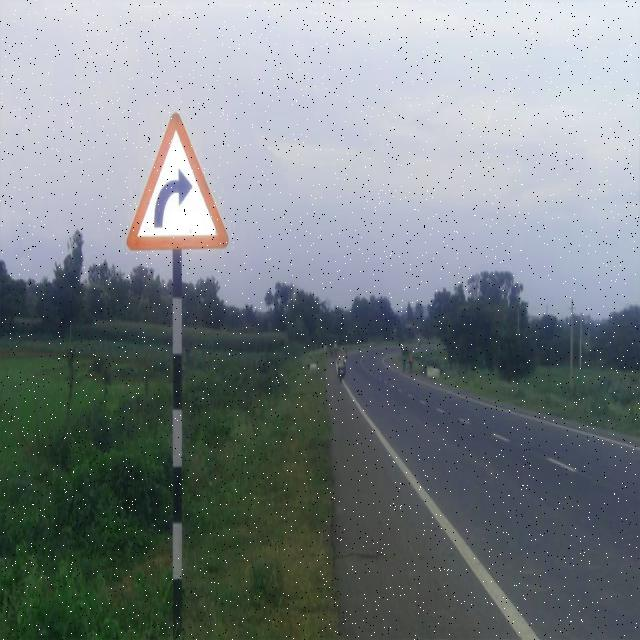Righthand_curve: (124, 114, 228, 249)
